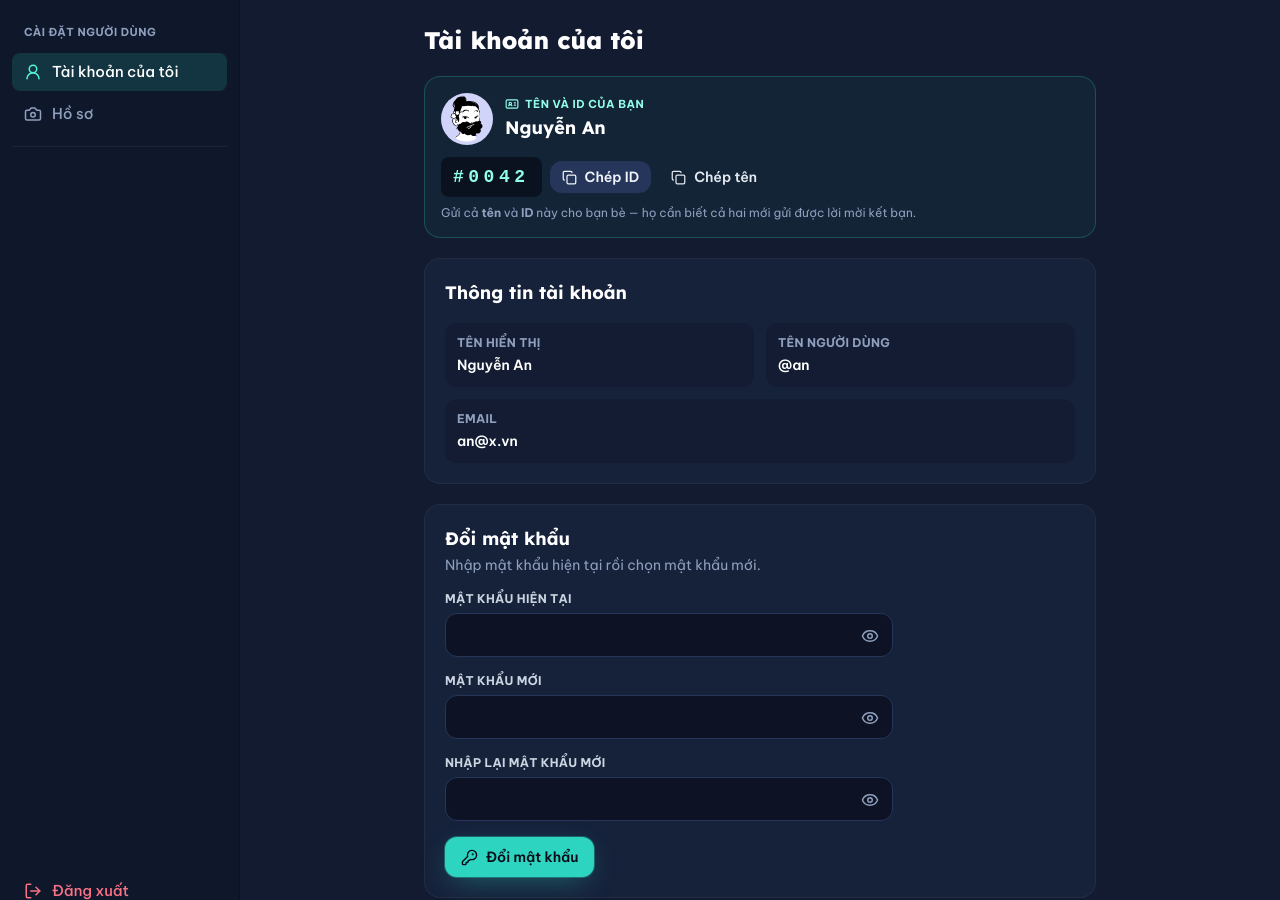
Test: Cài đặt → Hồ sơ › chọn ảnh có sẵn làm thay đổi bản nháp (chưa lưu cho đến khi bấm Lưu)
Step 1. Click the button "Hồ sơ" → (120,114), box left=12, top=95, right=227, bottom=134
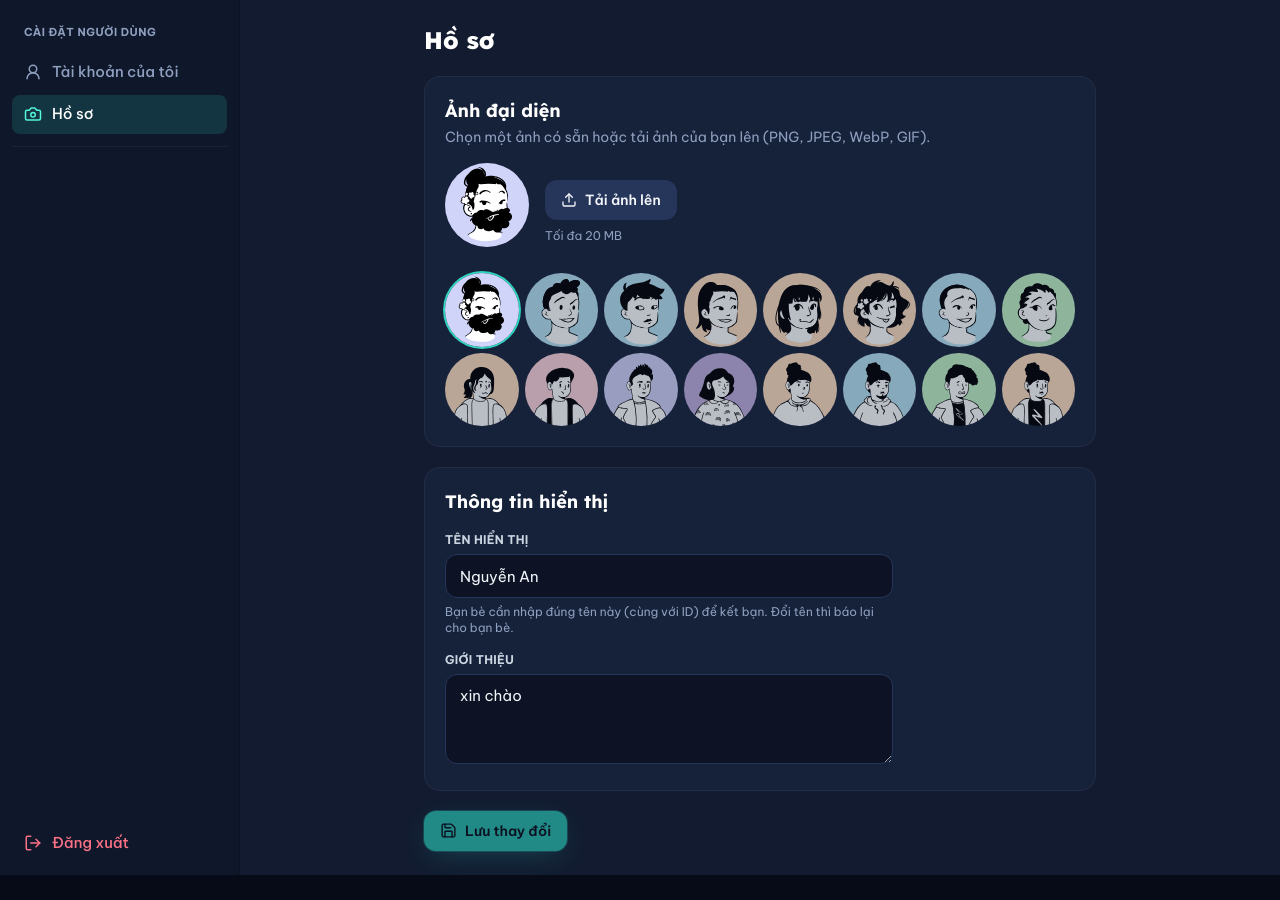
Step 2. Click the 4th button named "Chọn ảnh có sẵn" → (720,310), box left=684, top=273, right=757, bottom=346
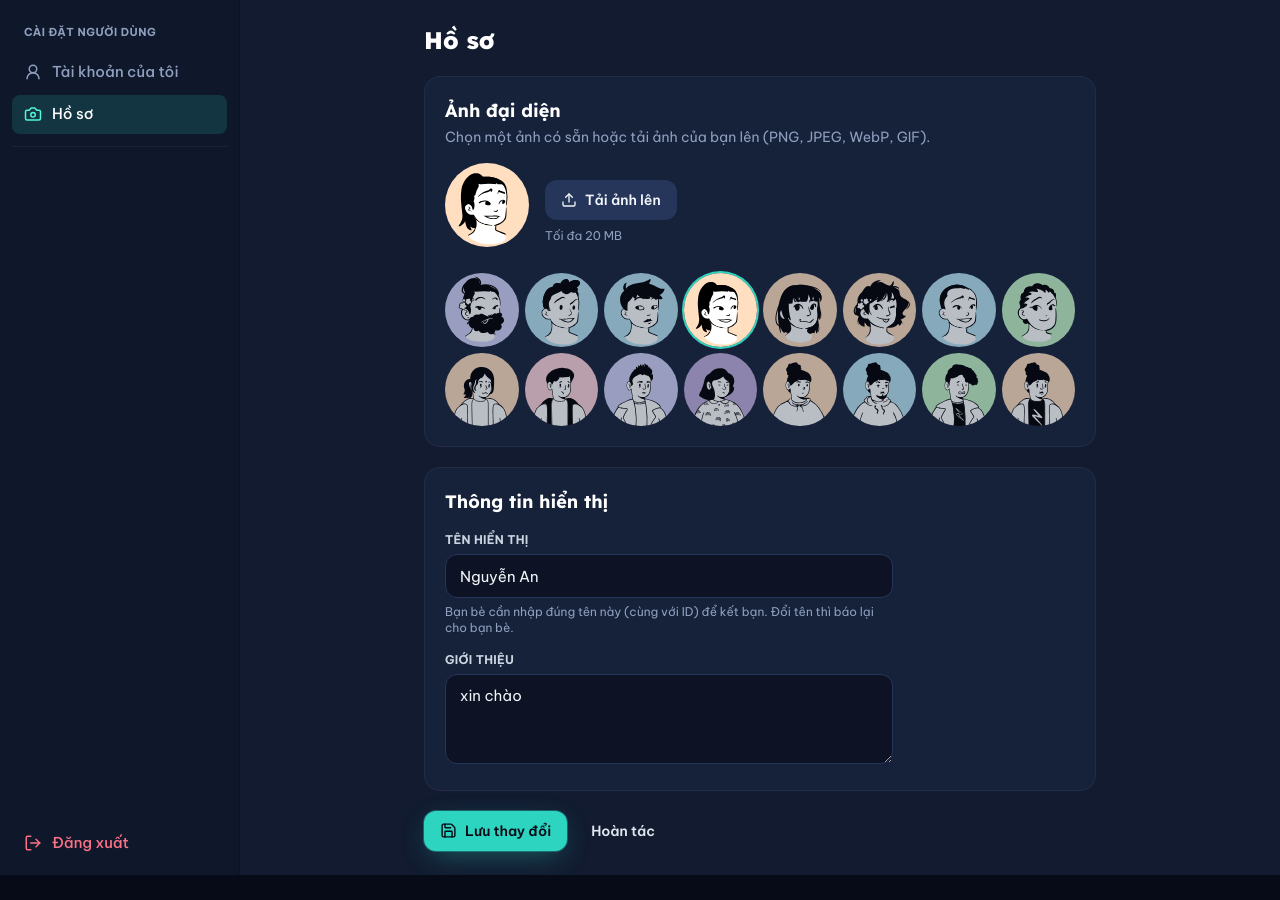
expect the button "Lưu thay đổi" is enabled: met, box left=424, top=810, right=567, bottom=850
